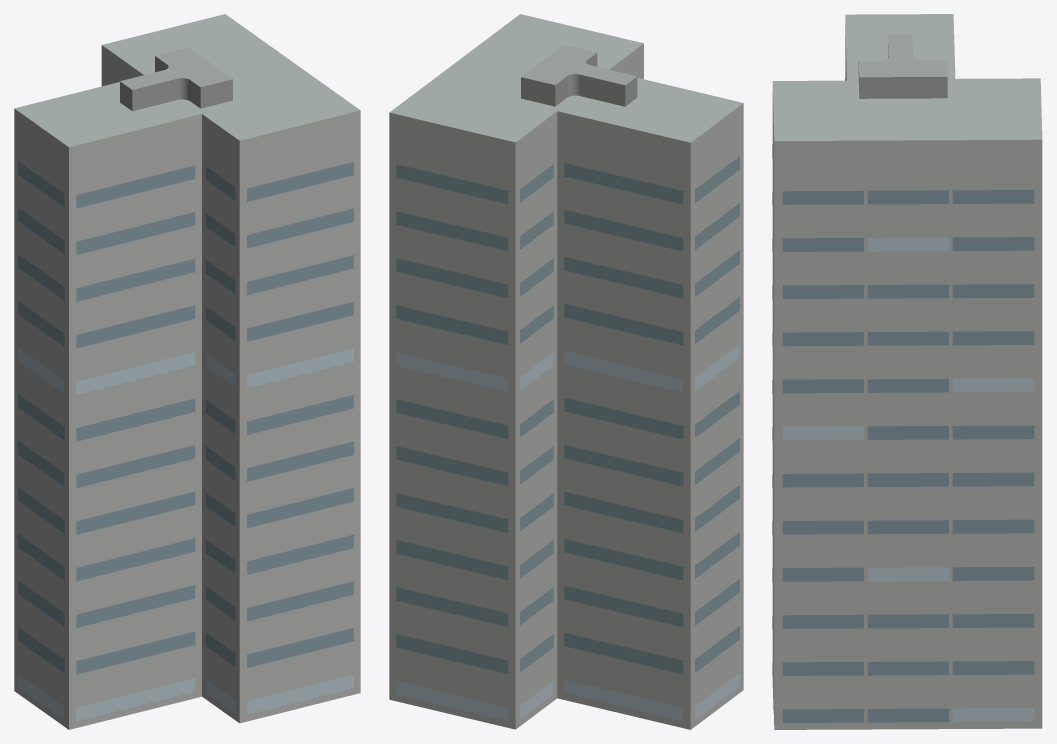
The model's file is fallback-sk-bukhansan-city-126.glb.
3 views of the same model, side by side, from view 1: azimuth 30°, elevation 25°; view 2: azimuth 150°, elevation 25°; view 3: azimuth 270°, elevation 25° (orthographic).
Visible parts, largest first — view 1: fallback-sk-bukhansan-city-126; view 2: fallback-sk-bukhansan-city-126; view 3: fallback-sk-bukhansan-city-126.
Boxes of the visible parts, x1=… form: fallback-sk-bukhansan-city-126: x1=14, y1=14, x2=360, y2=729; fallback-sk-bukhansan-city-126: x1=389, y1=14, x2=743, y2=729; fallback-sk-bukhansan-city-126: x1=772, y1=14, x2=1042, y2=729.
Bounding box in the file's own units: 30.45 × 68 × 27.32.
